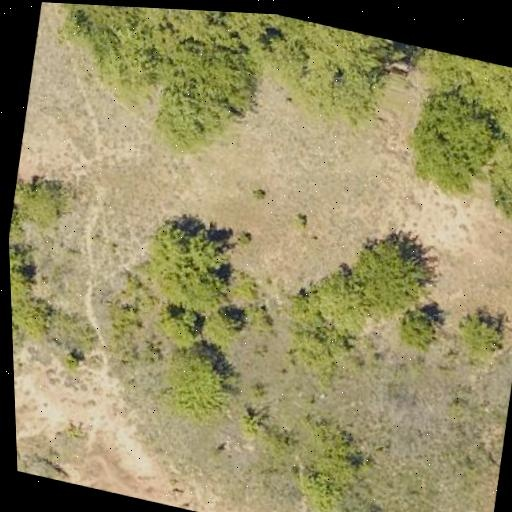tree-top: (259, 13, 409, 131), (139, 40, 261, 162), (398, 85, 505, 203), (144, 217, 241, 317), (347, 225, 442, 320), (60, 3, 161, 91), (412, 46, 512, 128), (155, 337, 241, 424), (138, 7, 271, 59), (308, 262, 378, 336), (294, 448, 357, 512), (17, 169, 72, 233), (456, 308, 509, 362), (485, 125, 512, 227), (152, 300, 204, 350), (11, 295, 55, 341), (395, 308, 440, 352), (9, 253, 43, 309)
